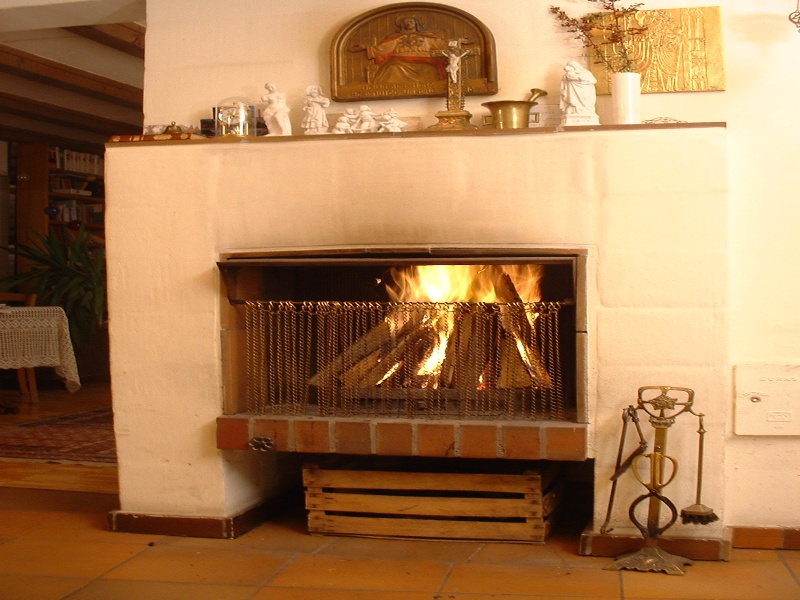fire: (372, 267, 563, 306)
